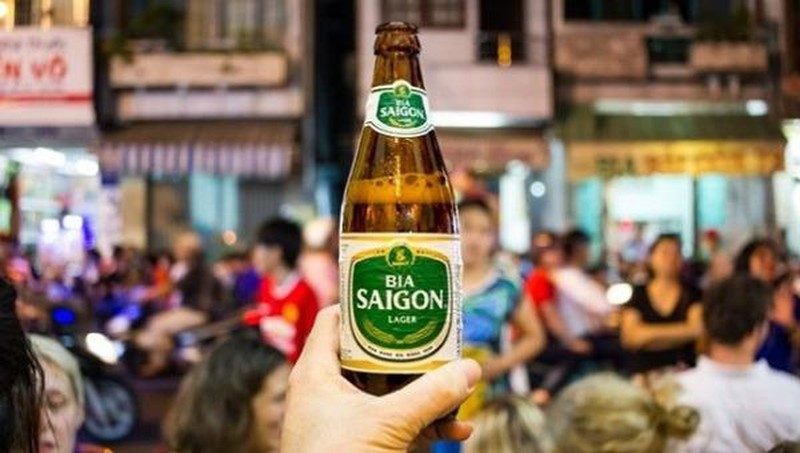biasaigon: (356, 272, 446, 312), (378, 99, 423, 119)
